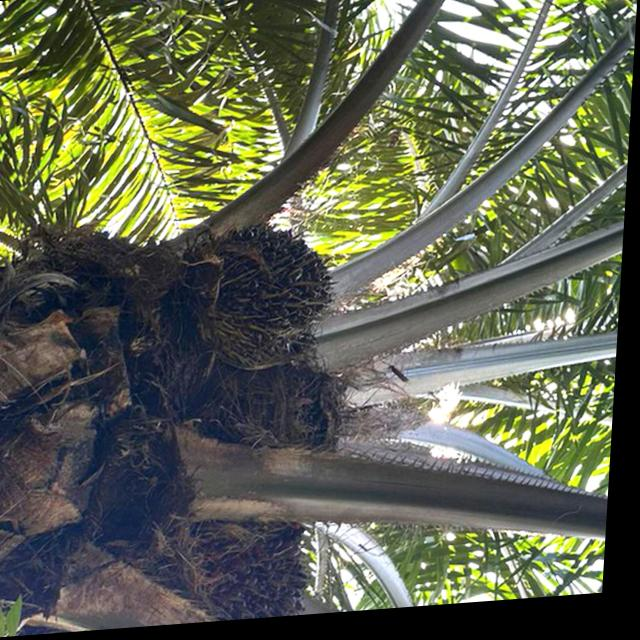unripe: (168, 218, 351, 379)
